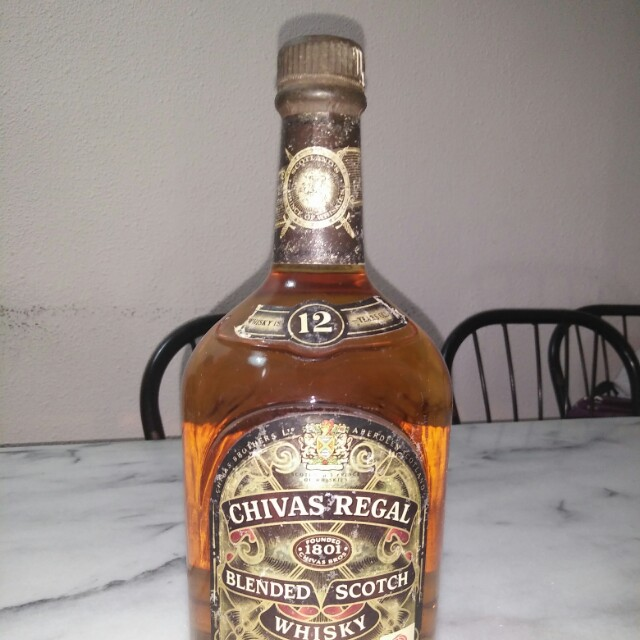Chivas Regal: (169, 7, 459, 640)
